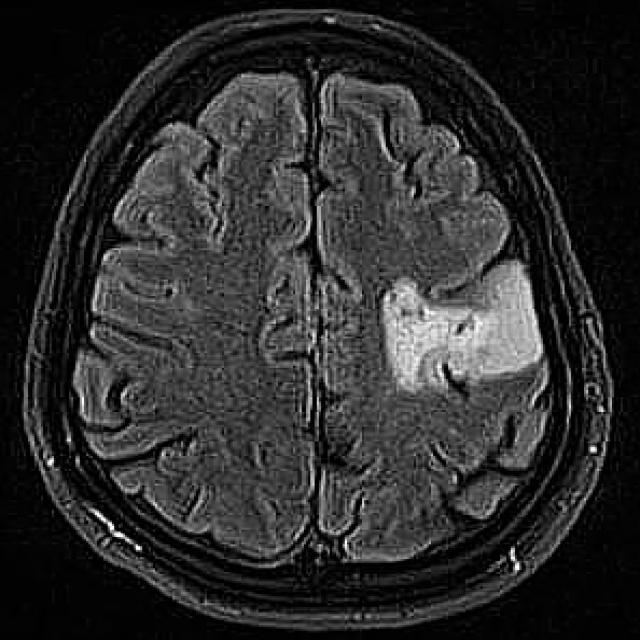Tumor-Cell: (360, 248, 561, 388)
